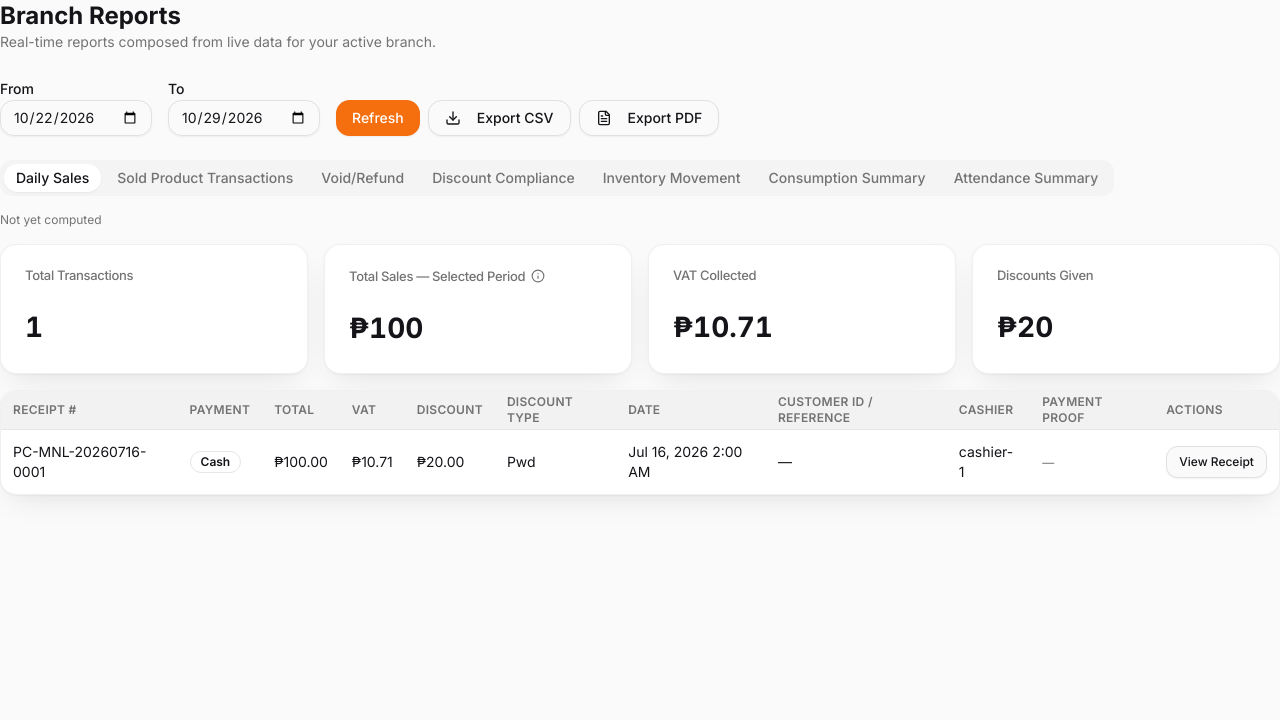
Test: SupervisorReportsPage › Discount Compliance — discount-proof viewing (Task 209.5) › opens the View Discount Proof dialog when the Yes · View Proof button is clicked
Press the mouse on the tab "Discount Compliance" at point(504, 178), box [420,164,587,192]
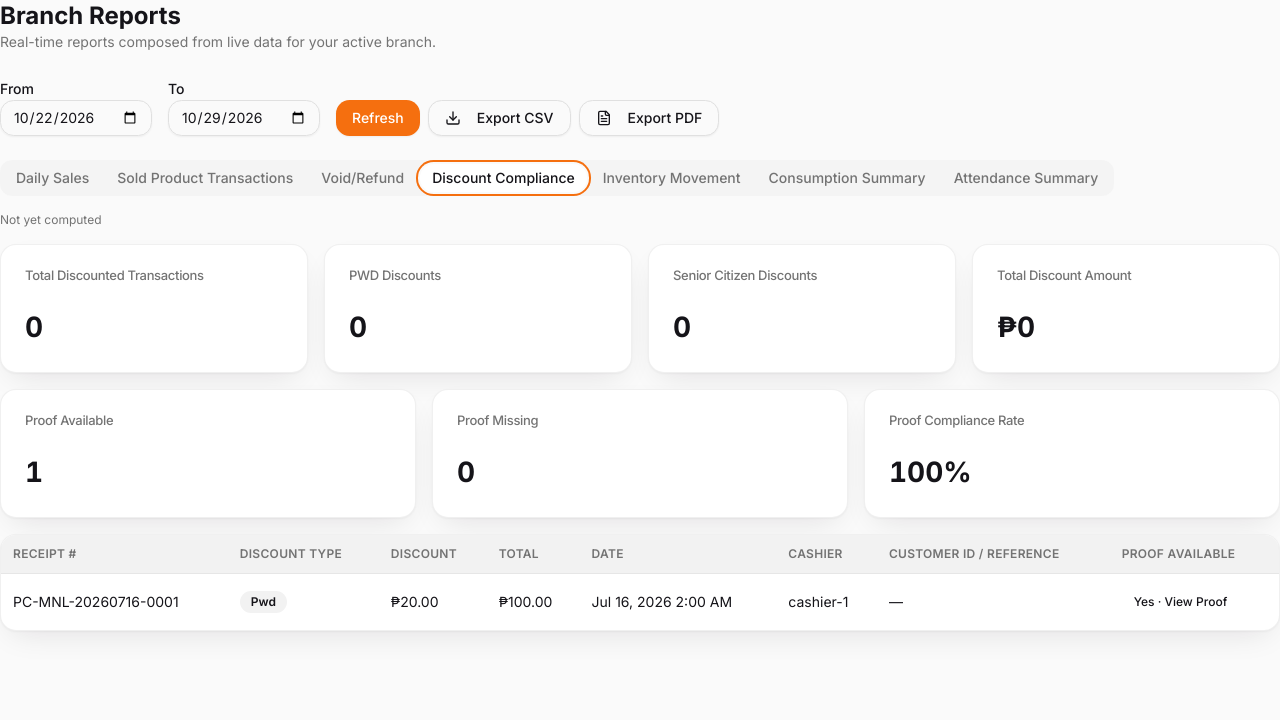
Click the button "Yes · View Proof" at point(1180, 602), box [1122,586,1239,618]
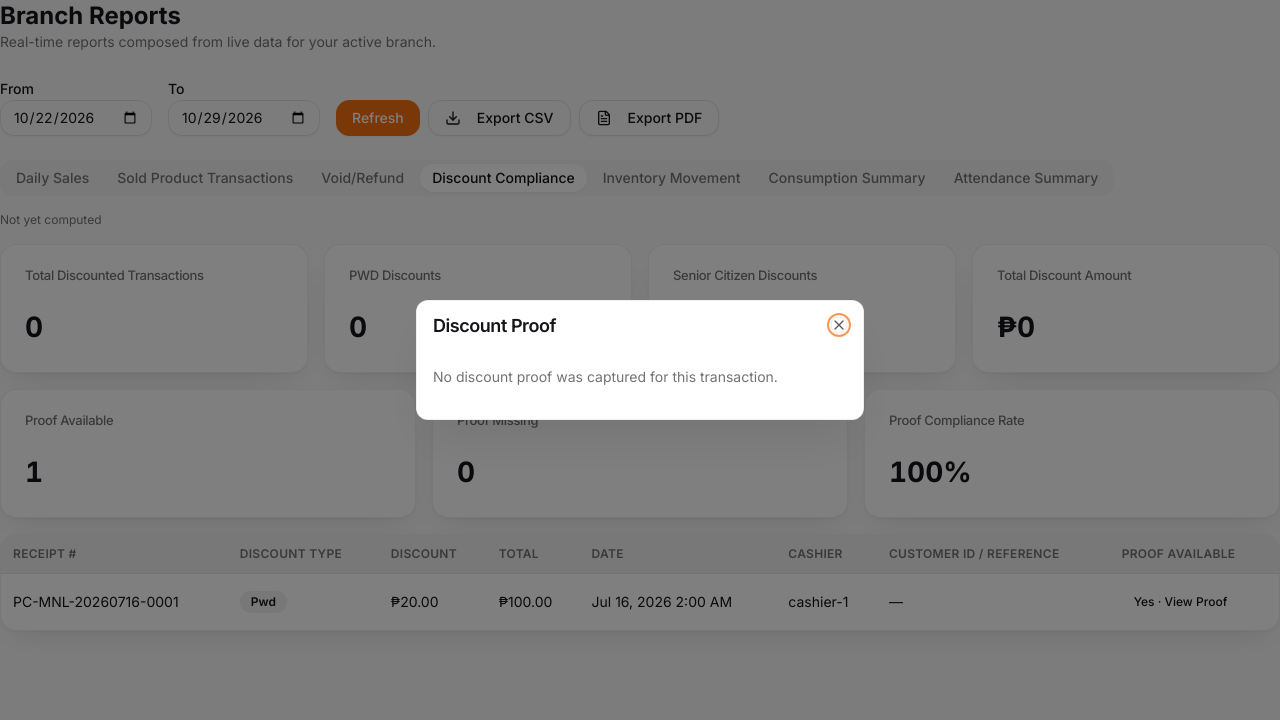
Result: the heading "Discount Proof" is shown at [433,315,556,336]
